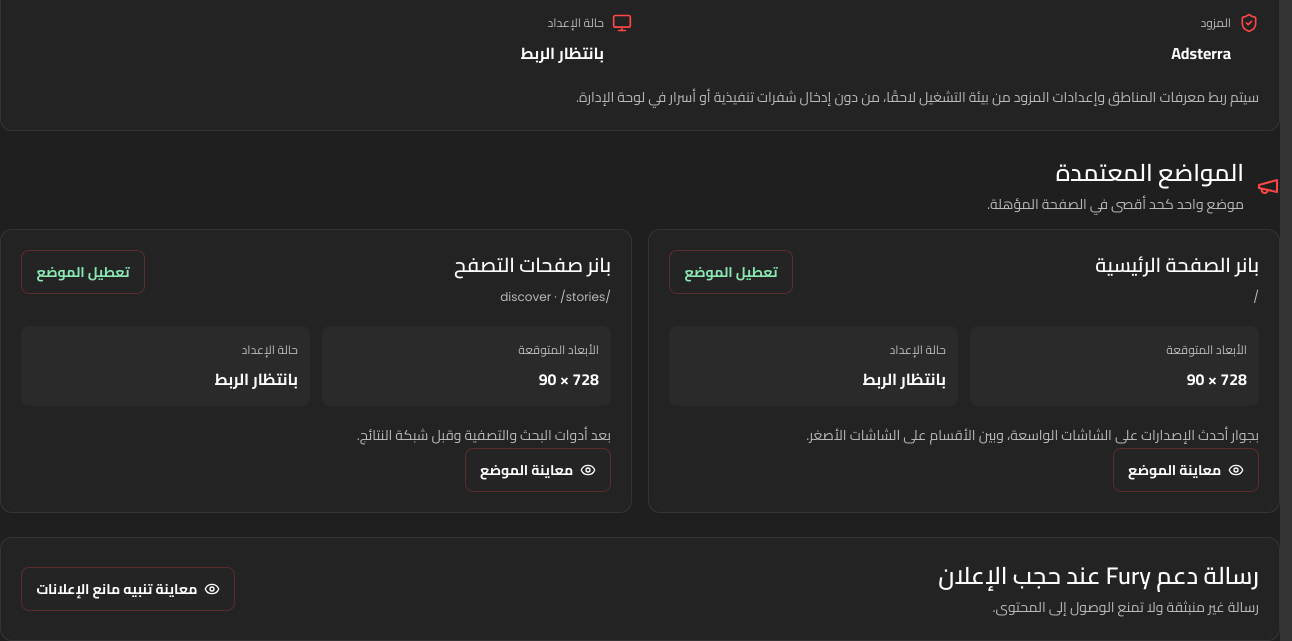
Test: AdminAds › keeps the approved placement preview visible without provider delivery
(page scrolled)
Click the button "معاينة الموضع" below "بانر الصفحة الرئيسية".
click(1186, 470)  # box [1112,448,1259,492]
(page scrolled)
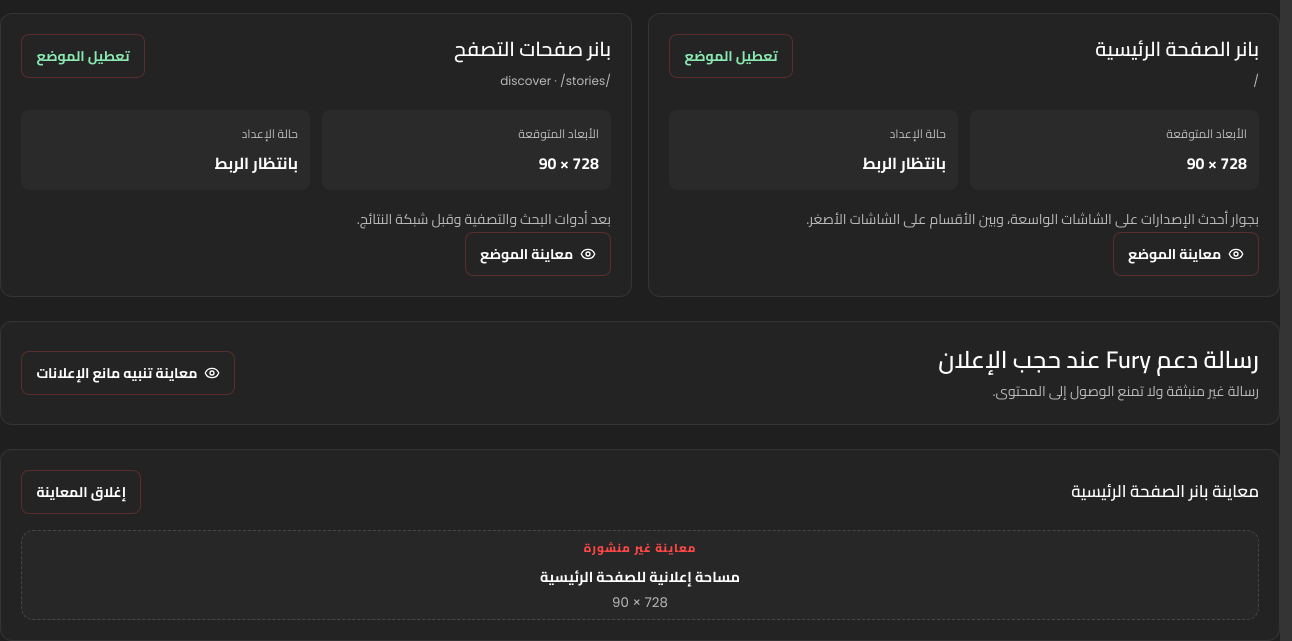
Check: the text "معاينة غير منشورة" is shown, box [584,537,696,559]
